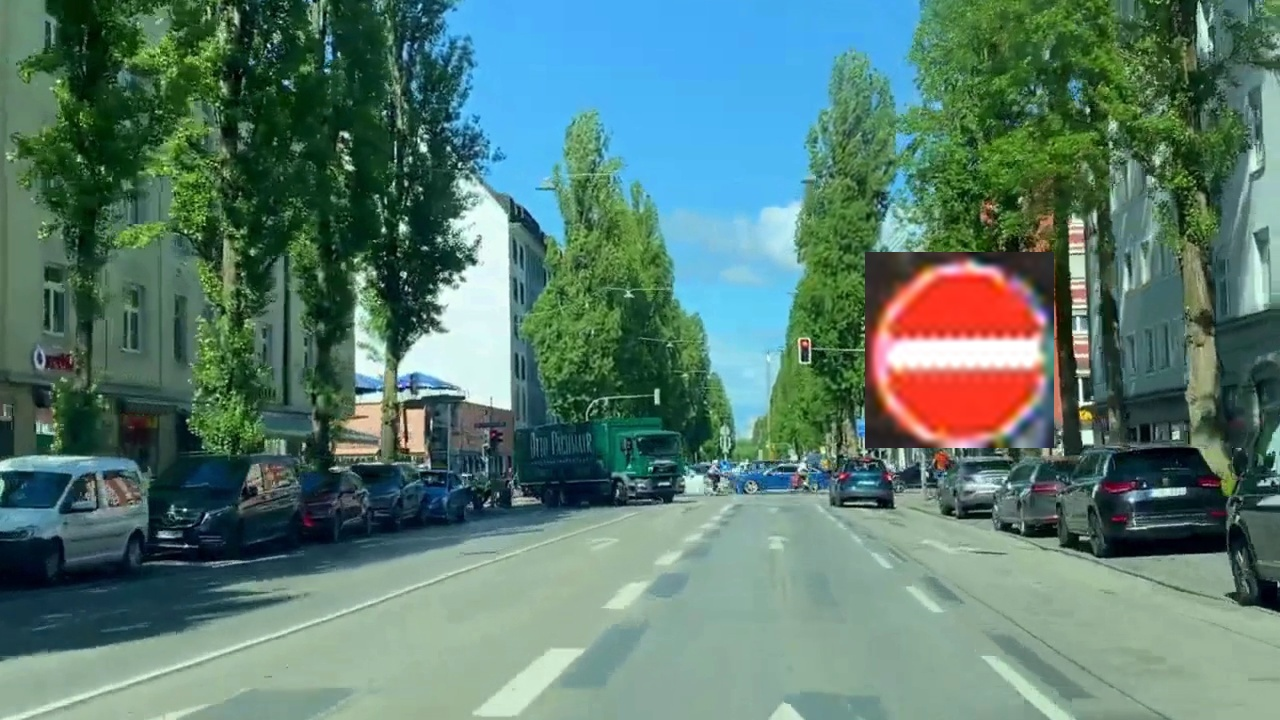No entry: (865, 252, 1054, 448)
